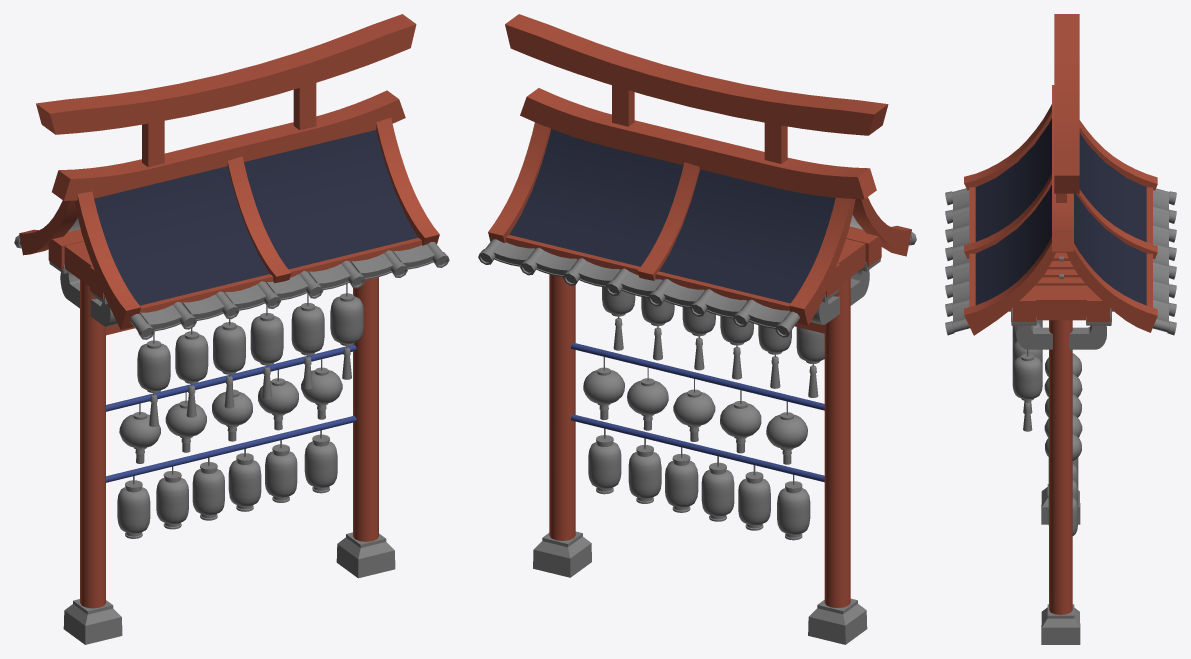
Rendered from SM_shrine_lanterns.fbx.
3 views of the same model, side by side, from view 1: azimuth 30°, elevation 25°; view 2: azimuth 150°, elevation 25°; view 3: azimuth 270°, elevation 25° (orthographic). The views are drawn at different scales.
Visible parts, largest first — view 1: Object32472; view 2: Object32472; view 3: Object32472.
Boxes of the visible parts, x1,y1,x2,y2 form: Object32472: [14, 14, 449, 644]; Object32472: [478, 14, 916, 644]; Object32472: [945, 14, 1176, 644].
Bounding box in the file's own units: 196 × 272 × 119.
